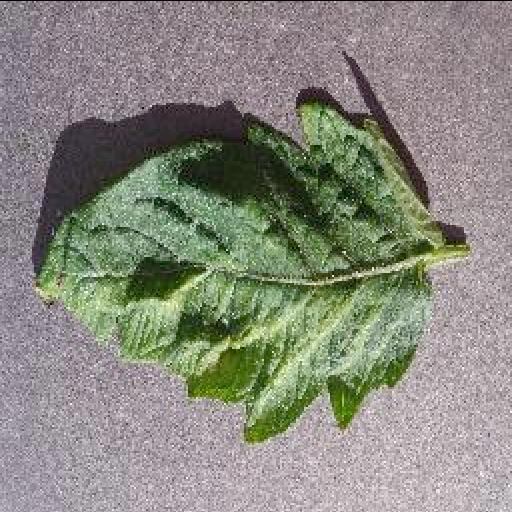disease_tomato: (34, 100, 444, 440)
